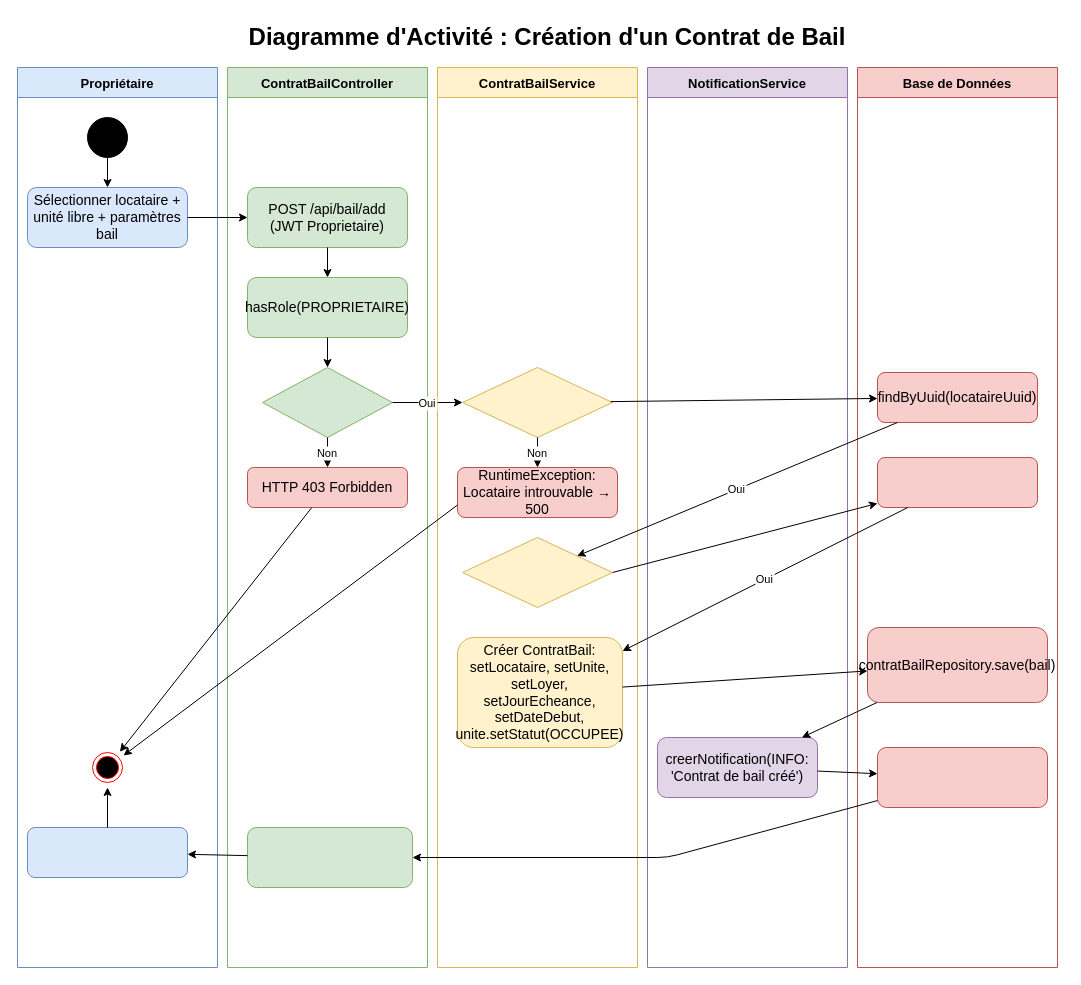
Some shapes in this 1081 by 985 pixel diagram are drawn without their labels. Each missing label, with the centre of its shape:
"Afficher confirmation de création" goes at (x=107, y=852).
"Autorisé?" goes at (x=327, y=402).
"findByUuid(uniteUuid)" goes at (x=957, y=482).
"Locataire trouvé?" goes at (x=537, y=402).
"notificationRepository.save(notif)" goes at (x=962, y=777).
"Retourner BailResponse (uuid, locataire, unité, loyer, statut...)" goes at (x=329, y=857).
"Unité trouvée?" goes at (x=537, y=572).
